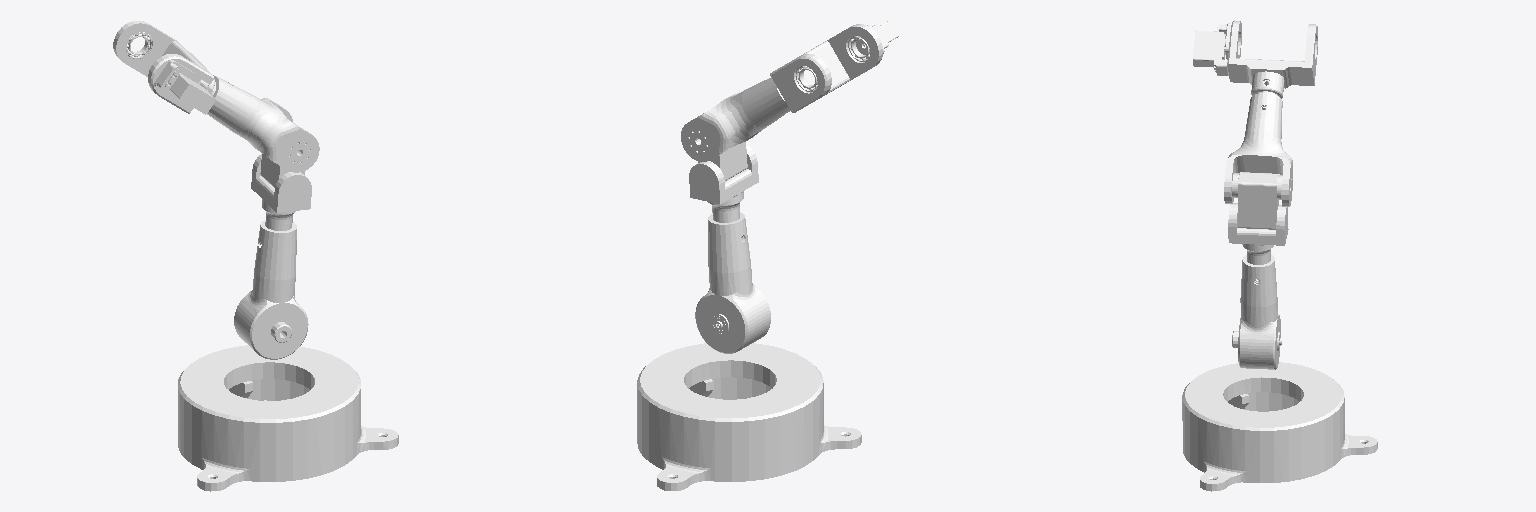
robot.urdf — hhhh:
<?xml version="1.0" encoding="utf-8"?>
<!-- This URDF was automatically created by SolidWorks to URDF Exporter! Originally created by [author] ([email redacted]) 
     Commit Version: 1.6.0-4-g7f85cfe  Build Version: 1.6.7995.38578
     For more information, please see http://wiki.ros.org/sw_urdf_exporter -->
<robot
  name="hhhh">
  <link
    name="base_link">
    <inertial>
      <origin
        xyz="0.015666 -0.26923 0.13197"
        rpy="0 0 0" />
      <mass
        value="0.96406" />
      <inertia
        ixx="0.0040165"
        ixy="-1.1792E-07"
        ixz="-2.7124E-07"
        iyy="0.0039963"
        iyz="8.5518E-06"
        izz="0.0069121" />
    </inertial>
    <visual>
      <origin
        xyz="0 0 0"
        rpy="0 0 0" />
      <geometry>
        <mesh
          filename="package://hhhh/meshes/base_link.STL" />
      </geometry>
      <material
        name="">
        <color
          rgba="1 1 1 1" />
      </material>
    </visual>
    <collision>
      <origin
        xyz="0 0 0"
        rpy="0 0 0" />
      <geometry>
        <mesh
          filename="package://hhhh/meshes/base_link.STL" />
      </geometry>
    </collision>
  </link>
  <link
    name="r_base">
    <inertial>
      <origin
        xyz="0.0028918 0.026778 0.061531"
        rpy="0 0 0" />
      <mass
        value="1.1496" />
      <inertia
        ixx="0.0017061"
        ixy="-2.1851E-05"
        ixz="-1.4732E-06"
        iyy="0.0015053"
        iyz="-1.3775E-05"
        izz="0.0022896" />
    </inertial>
    <visual>
      <origin
        xyz="0 0 0"
        rpy="0 0 0" />
      <geometry>
        <mesh
          filename="package://hhhh/meshes/r_base.STL" />
      </geometry>
      <material
        name="">
        <color
          rgba="1 1 1 1" />
      </material>
    </visual>
    <collision>
      <origin
        xyz="0 0 0"
        rpy="0 0 0" />
      <geometry>
        <mesh
          filename="package://hhhh/meshes/r_base.STL" />
      </geometry>
    </collision>
  </link>
  <joint
    name="j1"
    type="revolute">
    <origin
      xyz="0.015675 -0.26952 0.13958"
      rpy="0 0 0" />
    <parent
      link="base_link" />
    <child
      link="r_base" />
    <axis
      xyz="0 0 -1" />
    <limit
      lower="-2.3562"
      upper="2.3562"
      effort="4.5"
      velocity="3.5" />
  </joint>
  <link
    name="shoulder">
    <inertial>
      <origin
        xyz="0.0085999 0.11155 0.0050414"
        rpy="0 0 0" />
      <mass
        value="0.35383" />
      <inertia
        ixx="0.00044067"
        ixy="-2.2382E-05"
        ixz="2.2542E-07"
        iyy="0.00015207"
        iyz="2.9308E-06"
        izz="0.00041391" />
    </inertial>
    <visual>
      <origin
        xyz="0 0 0"
        rpy="0 0 0" />
      <geometry>
        <mesh
          filename="package://hhhh/meshes/shoulder.STL" />
      </geometry>
      <material
        name="">
        <color
          rgba="1 1 1 1" />
      </material>
    </visual>
    <collision>
      <origin
        xyz="0 0 0"
        rpy="0 0 0" />
      <geometry>
        <mesh
          filename="package://hhhh/meshes/shoulder.STL" />
      </geometry>
    </collision>
  </link>
  <joint
    name="j2"
    type="revolute">
    <origin
      xyz="0 0 0.096"
      rpy="1.5708 0 -0.10746" />
    <parent
      link="r_base" />
    <child
      link="shoulder" />
    <axis
      xyz="0 0 -1" />
    <limit
      lower="-2.3562"
      upper="2.3562"
      effort="35"
      velocity="3.5" />
  </joint>
  <link
    name="elbow">
    <inertial>
      <origin
        xyz="-0.084232 0.06654 0.012158"
        rpy="0 0 0" />
      <mass
        value="0.38638" />
      <inertia
        ixx="0.00040194"
        ixy="9.9626E-05"
        ixz="1.0576E-05"
        iyy="0.00044937"
        iyz="-8.387E-06"
        izz="0.00031342" />
    </inertial>
    <visual>
      <origin
        xyz="0 0 0"
        rpy="0 0 0" />
      <geometry>
        <mesh
          filename="package://hhhh/meshes/elbow.STL" />
      </geometry>
      <material
        name="">
        <color
          rgba="1 1 1 1" />
      </material>
    </visual>
    <collision>
      <origin
        xyz="0 0 0"
        rpy="0 0 0" />
      <geometry>
        <mesh
          filename="package://hhhh/meshes/elbow.STL" />
      </geometry>
    </collision>
  </link>
  <joint
    name="j3"
    type="revolute">
    <origin
      xyz="0.016805 0.21735 0"
      rpy="0 0 0" />
    <parent
      link="shoulder" />
    <child
      link="elbow" />
    <axis
      xyz="0 0 1" />
    <limit
      lower="-2.3562"
      upper="2.3562"
      effort="15"
      velocity="3.5" />
  </joint>
  <link
    name="wrist">
    <inertial>
      <origin
        xyz="-0.0079871 -0.07975 -0.0021323"
        rpy="0 0 0" />
      <mass
        value="0.7592" />
      <inertia
        ixx="0.0039781"
        ixy="-0.00010087"
        ixz="3.5295E-07"
        iyy="0.00037187"
        iyz="4.8291E-06"
        izz="0.0037374" />
    </inertial>
    <visual>
      <origin
        xyz="0 0 0"
        rpy="0 0 0" />
      <geometry>
        <mesh
          filename="package://hhhh/meshes/wrist.STL" />
      </geometry>
      <material
        name="">
        <color
          rgba="1 1 1 1" />
      </material>
    </visual>
    <collision>
      <origin
        xyz="0 0 0"
        rpy="0 0 0" />
      <geometry>
        <mesh
          filename="package://hhhh/meshes/wrist.STL" />
      </geometry>
    </collision>
  </link>
  <joint
    name="j4"
    type="revolute">
    <origin
      xyz="-0.15373 0.12148 0"
      rpy="3.1416 0 0" />
    <parent
      link="elbow" />
    <child
      link="wrist" />
    <axis
      xyz="0 0 -1" />
    <limit
      lower="-2.3562"
      upper="2.3562"
      effort="4.5"
      velocity="3.5" />
  </joint>
</robot>

--- Facts derived from the render (not from the file) ---
3 views of the same robot in one strip: view 1: azimuth 30°, elevation 25°; view 2: azimuth 150°, elevation 25°; view 3: azimuth 270°, elevation 25° (orthographic).
Model hhhh with 5 links and 4 joints (4 revolute), rooted at base_link, posed every joint at zero.
Visible links, largest first — view 1: base_link, elbow, shoulder; view 2: base_link, shoulder, elbow; view 3: base_link, elbow, shoulder.
Link boxes in pixels (x1=…): base_link: x1=178, y1=345, x2=398, y2=491; elbow: x1=113, y1=21, x2=319, y2=172; shoulder: x1=234, y1=150, x2=311, y2=359; base_link: x1=637, y1=343, x2=861, y2=490; shoulder: x1=689, y1=142, x2=770, y2=353; elbow: x1=681, y1=21, x2=898, y2=161; base_link: x1=1182, y1=362, x2=1377, y2=491; elbow: x1=1193, y1=20, x2=1317, y2=206; shoulder: x1=1228, y1=172, x2=1288, y2=369.
Size in the robot's own frame: 0.2927 by 0.2405 by 0.5125 metres.
3 mesh visuals loaded from 5 distinct referenced files (3 binary STL); not drawn: 2 (reference not matched to a file when rendering).